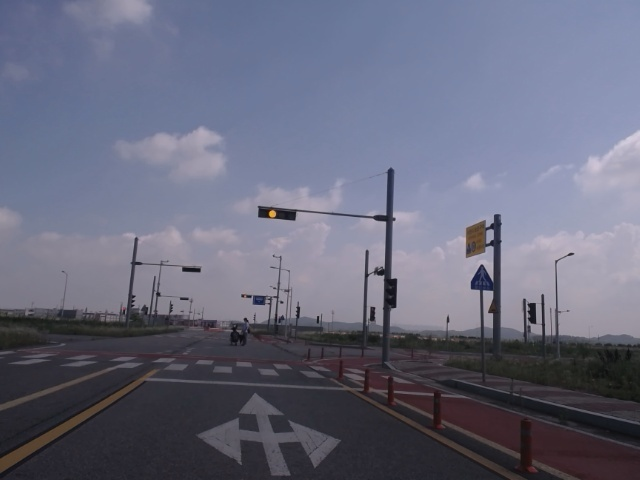orange_4: (259, 206, 296, 220)
